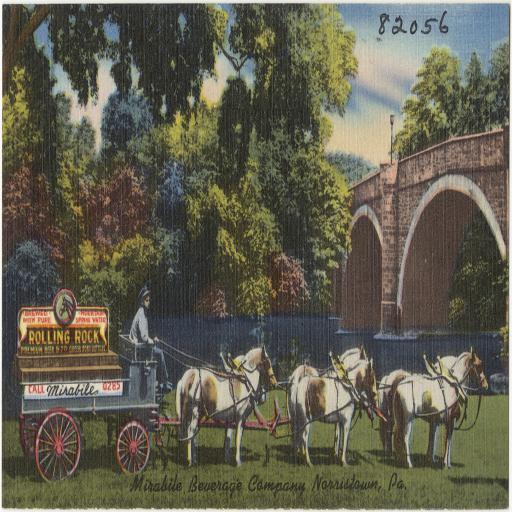Horse: (390, 344, 490, 471), (179, 343, 278, 468), (175, 354, 267, 466), (288, 342, 369, 465), (290, 354, 378, 464), (377, 354, 458, 456)
